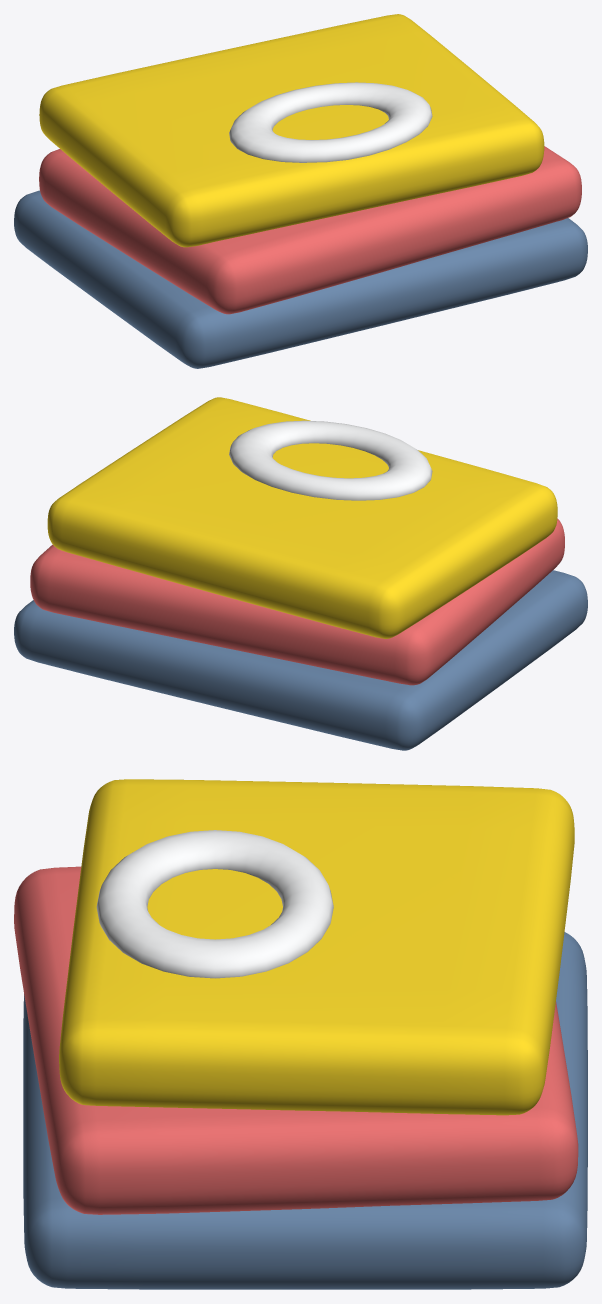
The model's file is SM_FoldedClothes.fbx.
The picture shows the model from 3 angles, top to bottom: view 1: azimuth 30°, elevation 25°; view 2: azimuth 150°, elevation 25°; view 3: azimuth 270°, elevation 25°; orthographic projection. The views are drawn at different scales.
Parts seen in each view (by area): view 1: SM_FoldedClothes; view 2: SM_FoldedClothes; view 3: SM_FoldedClothes.
Part boxes in pixels (x1,y1,x2,y2): SM_FoldedClothes: (14, 14, 587, 368); SM_FoldedClothes: (14, 397, 587, 750); SM_FoldedClothes: (14, 779, 587, 1289).
Size of the model in its own units: 45.95 by 18.41 by 36.57.
